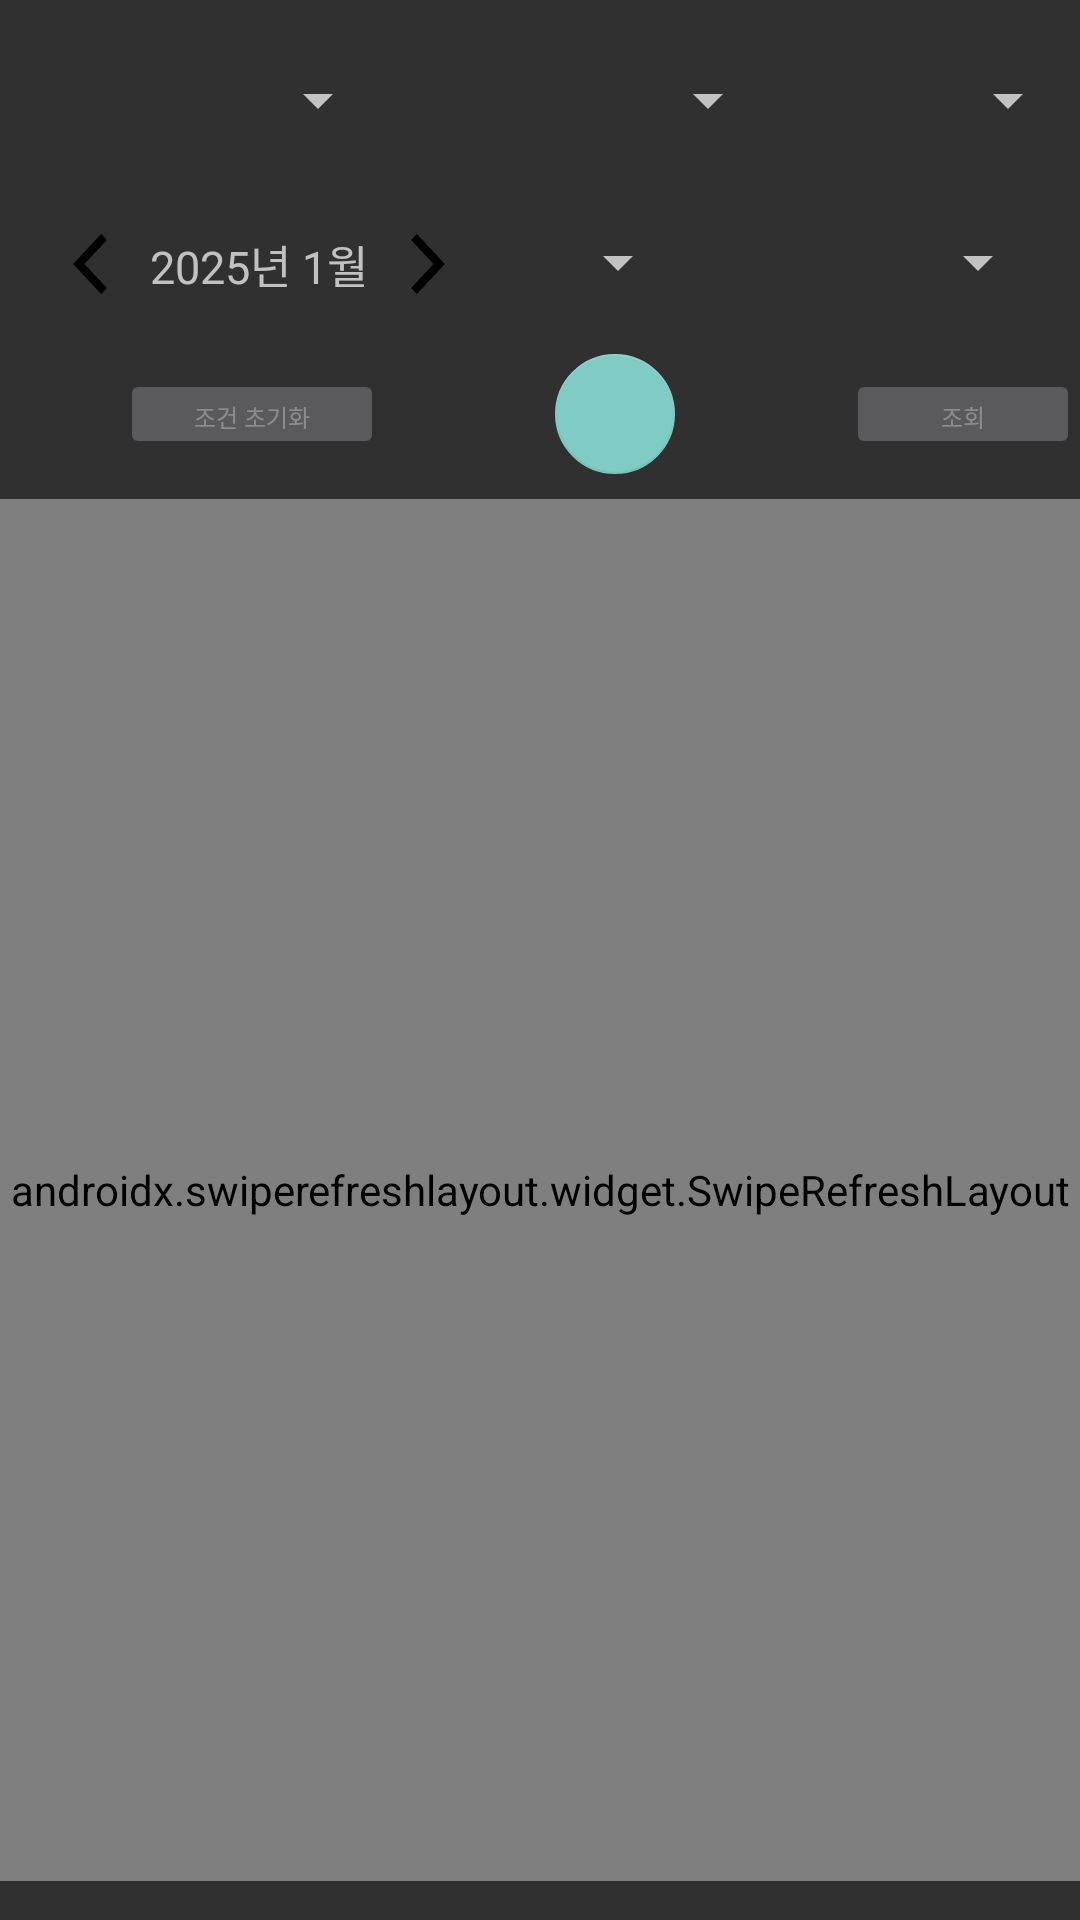

Where to tap for icons on this 1080w x 1920h app screen, as (x=x, y=y):
left arrow: (x=90, y=264)
right arrow: (x=428, y=264)
